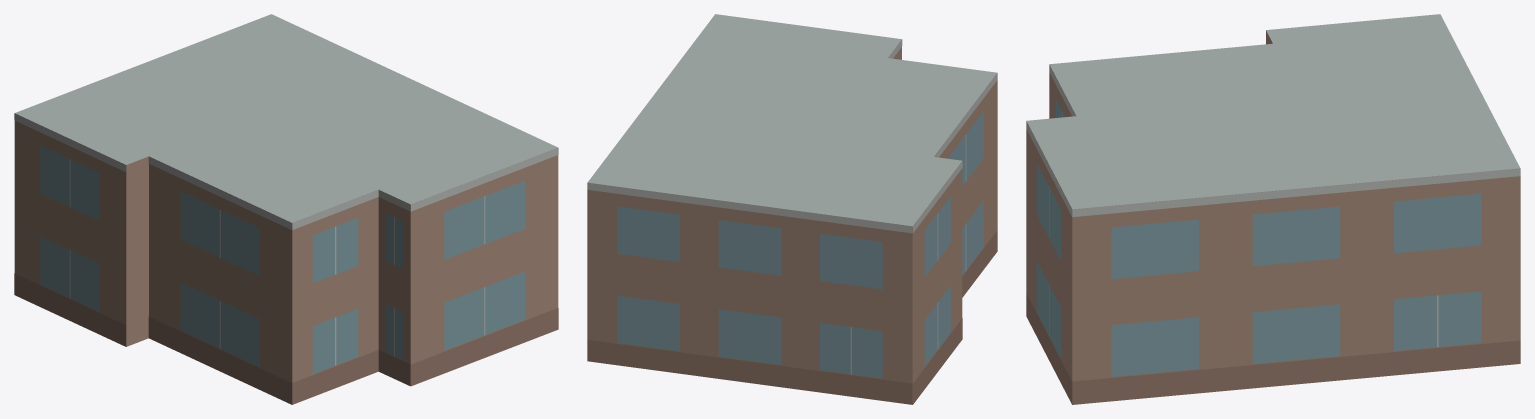
File: survey-upis-32830722.glb
3 renders of one model, left to right at view 1: azimuth 30°, elevation 25°; view 2: azimuth 150°, elevation 25°; view 3: azimuth 270°, elevation 25°, orthographic. The views are drawn at different scales.
Parts seen in each view (by area): view 1: survey-upis-32830722.tmp; view 2: survey-upis-32830722.tmp; view 3: survey-upis-32830722.tmp.
Boxes of the visible parts, x1,y1,x2,y2 form: survey-upis-32830722.tmp: (14, 14, 558, 404); survey-upis-32830722.tmp: (587, 14, 997, 404); survey-upis-32830722.tmp: (1026, 14, 1520, 404).
Size of the model in its own units: 13.08 by 6.1 by 13.99.
